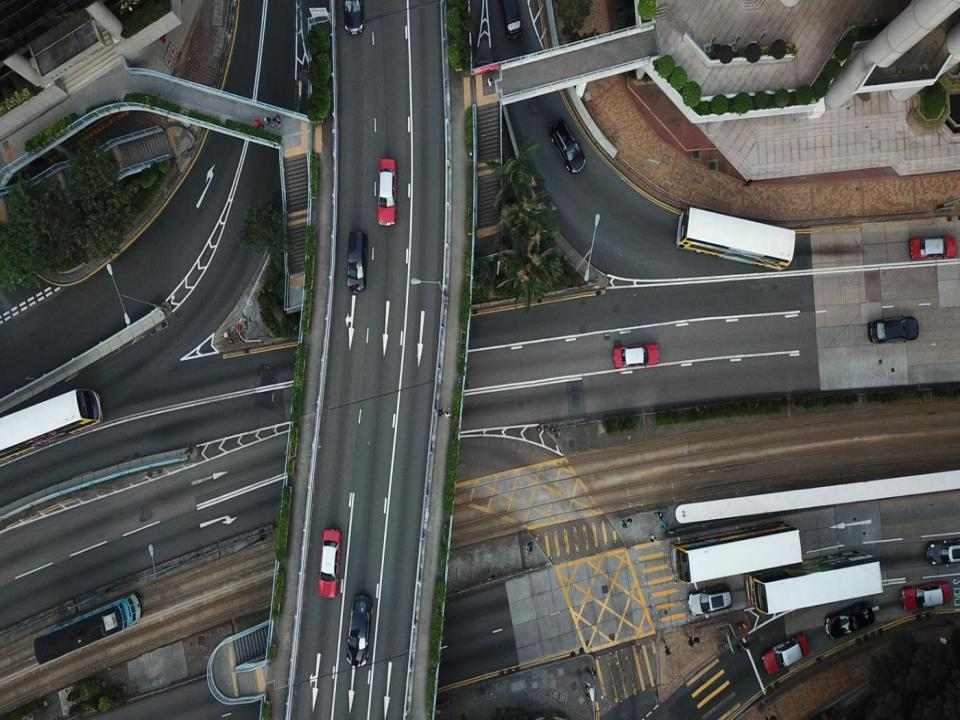bus: (747, 549, 888, 618), (676, 202, 798, 277), (34, 589, 143, 671), (0, 386, 105, 462), (673, 524, 808, 582)
car: (823, 598, 877, 642), (552, 114, 588, 175), (758, 634, 807, 676), (316, 526, 343, 602), (374, 153, 402, 223), (347, 590, 370, 664), (865, 316, 921, 346), (908, 233, 957, 266), (346, 227, 368, 297), (688, 584, 734, 617), (899, 582, 952, 609), (614, 344, 657, 369), (343, 4, 369, 38), (924, 538, 958, 563), (503, 4, 525, 40)
